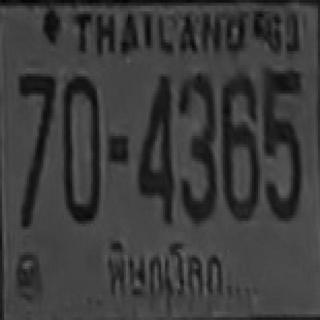N00: (62, 74, 99, 221)
N03: (178, 71, 215, 218)
N04: (136, 71, 171, 221)
N05: (262, 68, 299, 218), (262, 68, 299, 158)
N06: (220, 71, 259, 218)
N07: (16, 69, 54, 217), (16, 71, 54, 187)
P46: (101, 233, 230, 304)
